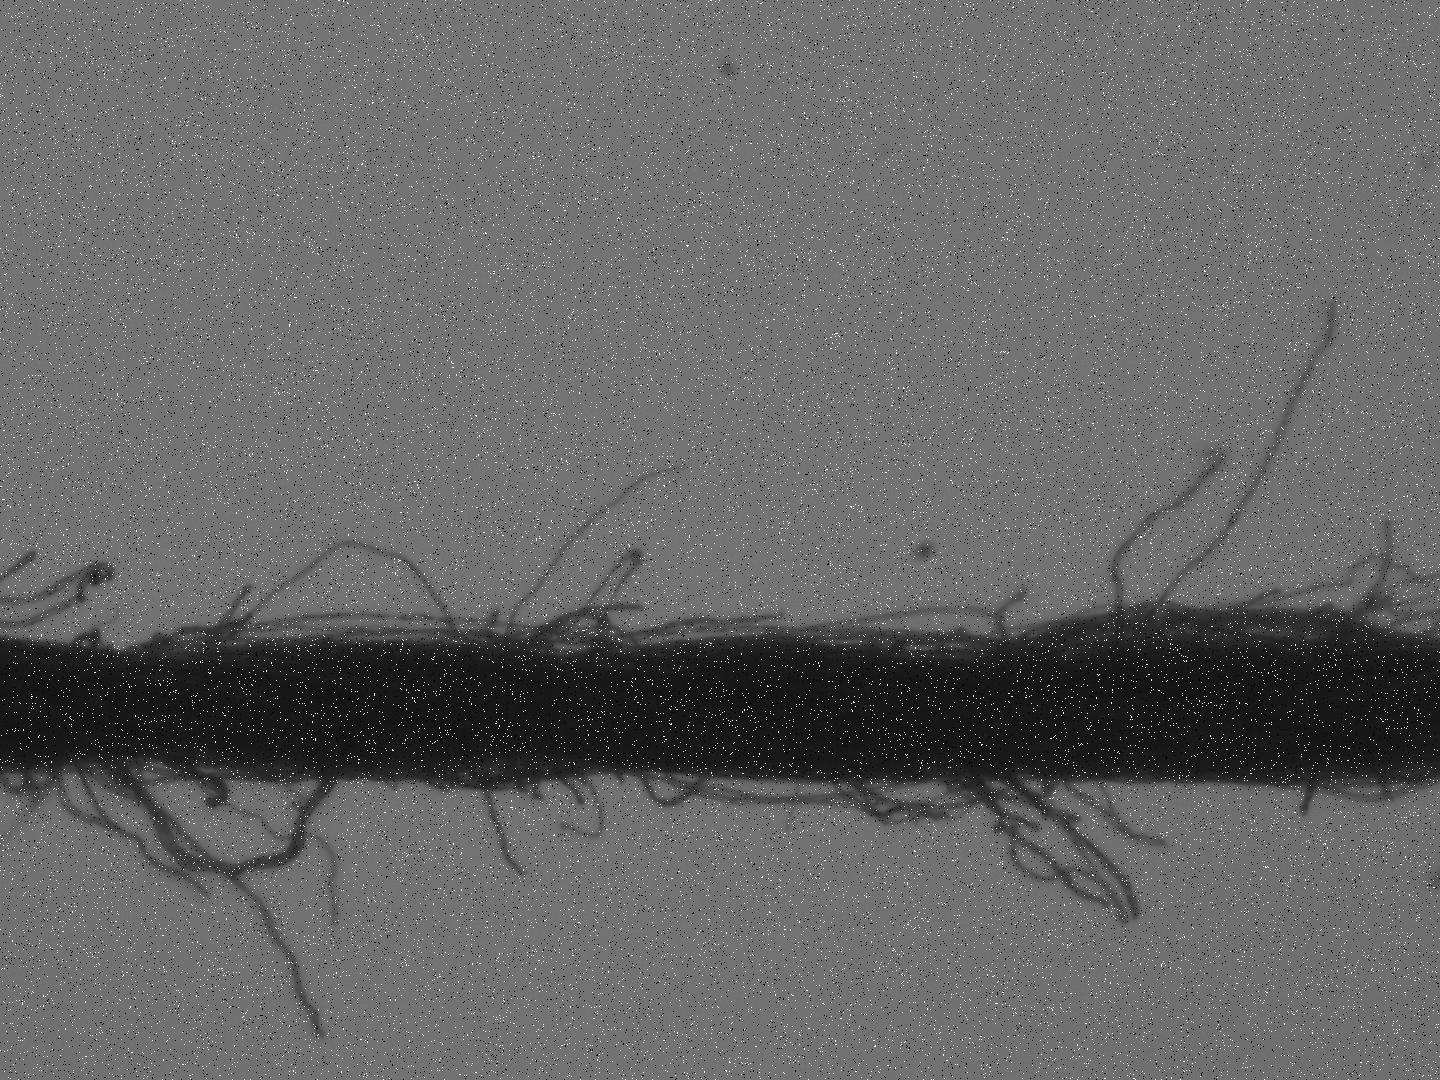loop_fiber: (201, 545, 466, 653), (115, 763, 329, 876), (783, 589, 1027, 659), (1018, 606, 1296, 660), (671, 774, 916, 808), (850, 778, 1036, 812), (476, 784, 526, 876), (519, 617, 630, 657), (1297, 773, 1430, 805), (881, 633, 1008, 663), (443, 760, 575, 787), (637, 769, 706, 809), (996, 779, 1064, 808), (23, 769, 53, 800), (1, 770, 29, 796)
protruding_fiber: (1133, 299, 1344, 655), (119, 775, 324, 1043), (500, 463, 685, 648), (1108, 448, 1225, 658), (1006, 783, 1146, 920), (1297, 781, 1318, 820)
